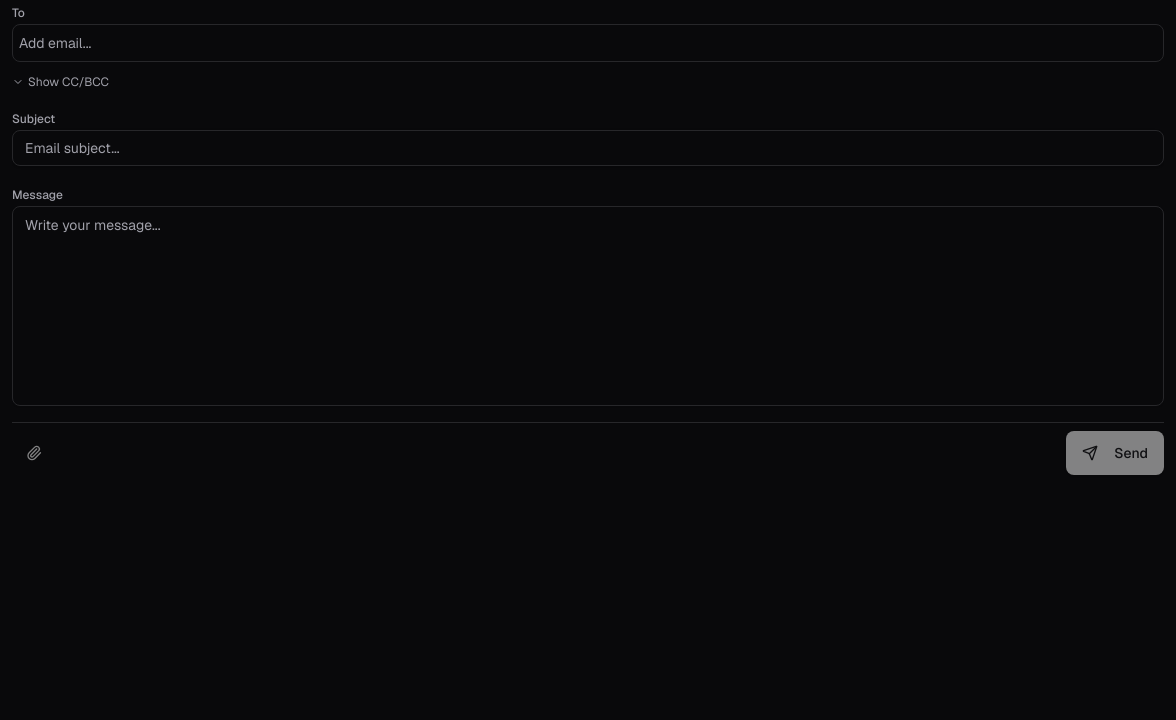
Test: EmailComposer › CC/BCC Toggle › shows CC/BCC fields when toggle is clicked
The width and height of the screenshot is (1176, 720).
What coordinates should you click on to do the following:
click the button "Show CC/BCC"
I would click on:
 (60, 82)
Its box is [12,74,109,90].
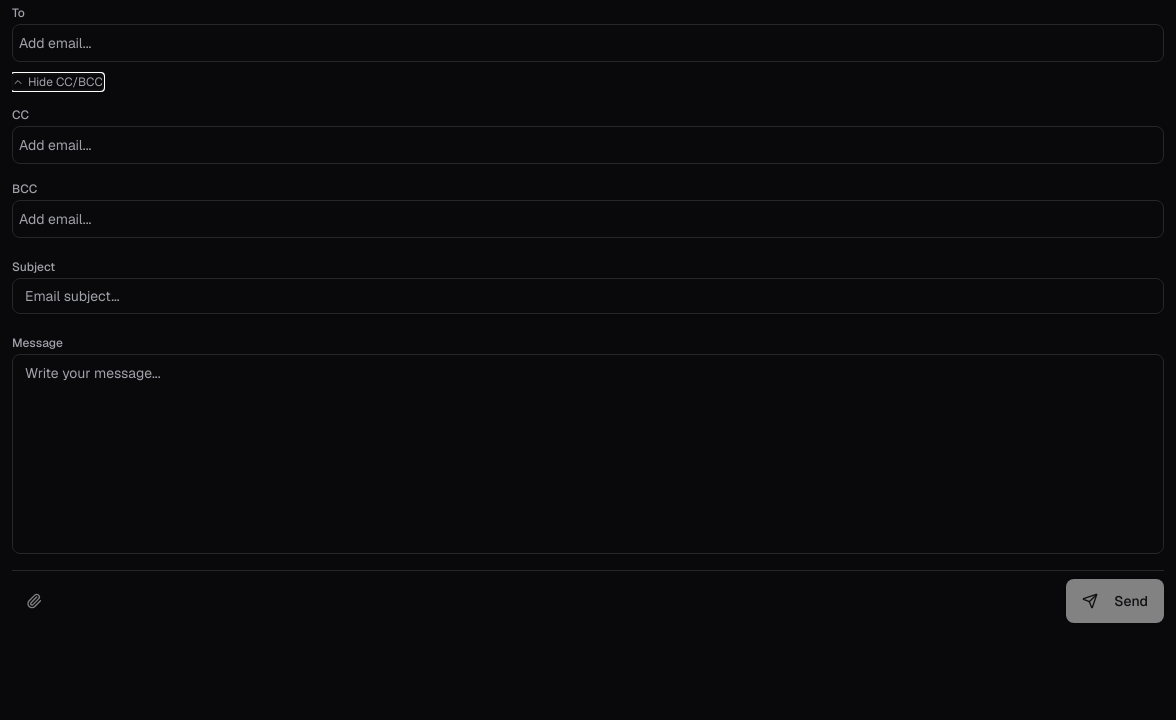
Expected: the text "CC" is shown, [12,107,29,123]
Expected: the text "BCC" is shown, [12,181,37,197]
